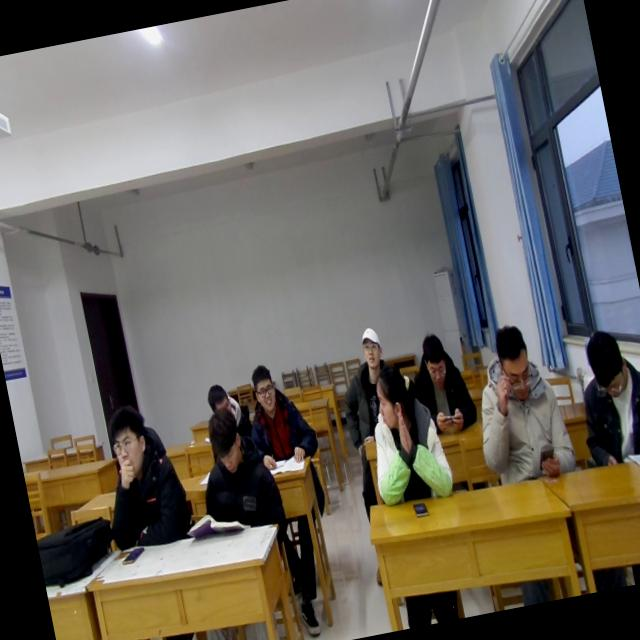down: (578, 324, 634, 404), (488, 317, 536, 403), (203, 406, 250, 480), (415, 324, 453, 394), (200, 377, 237, 424)
lookup: (100, 397, 158, 487), (244, 355, 281, 418), (354, 321, 387, 372)
sit: (460, 314, 575, 486), (90, 394, 198, 557), (355, 356, 458, 509), (186, 403, 287, 545), (562, 316, 640, 470), (402, 322, 484, 441), (242, 354, 322, 473), (328, 317, 400, 443), (193, 368, 260, 454)
